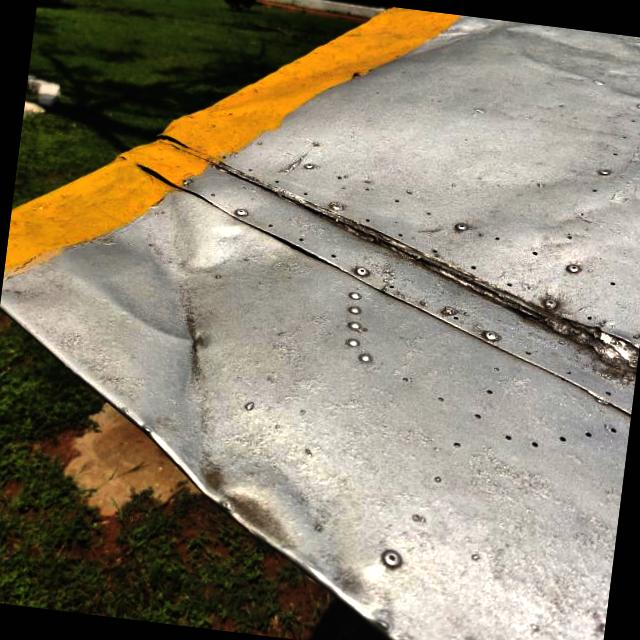dent: (126, 364, 458, 638)
